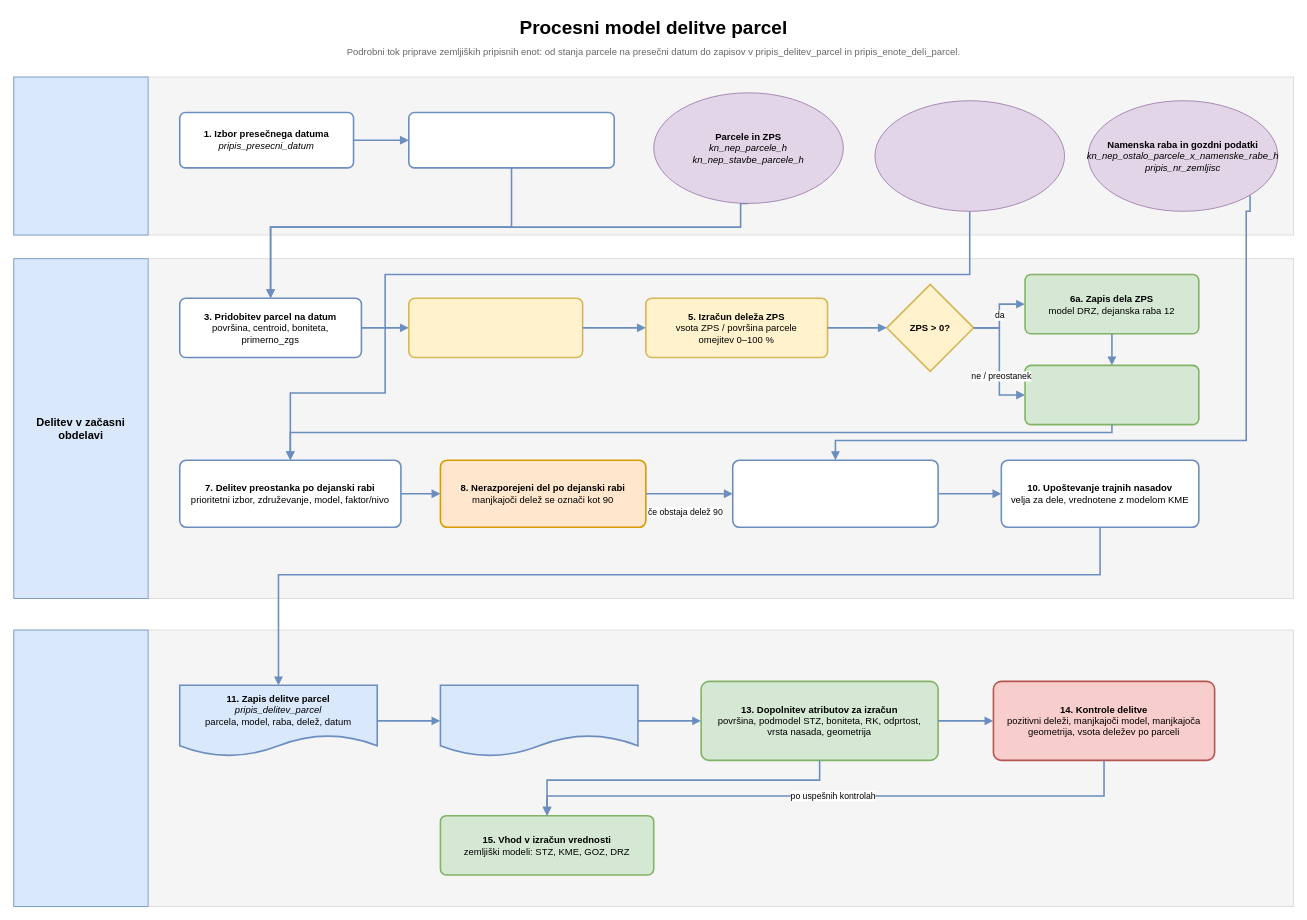
This 1307x920 diagram has some shape labels left out. The shapes that lost their labels are listed below. From the top down, each one's centre as x and y in pixels, then its label:
At point 80,155: "Vhodni podatki in zagon".
At point 511,139: "2. Ponovljiv zagon priprave brisanje obstoječih parcelnih zapisov za isti datum".
At point 969,155: "Dejanska raba kn_nep_ostalo_parcele_x_dejanske_rabe_h pripis_dr_zemljisc".
At point 495,327: "4. Priprava začasne obdelave pripis_tmp_parc_del".
At point 1111,394: "6b. Zapis preostanka parcele delež 100 % ali 100 % − ZPS".
At point 835,493: "9. Delitev po namenski rabi proporcionalna delitev nerazporejenega dela".
At point 538,720: "12. Oblikovanje zemljiških pripisnih enot pripis_enote_deli_parcel".
At point 80,768: "Zapis rezultatov in kontrole".
